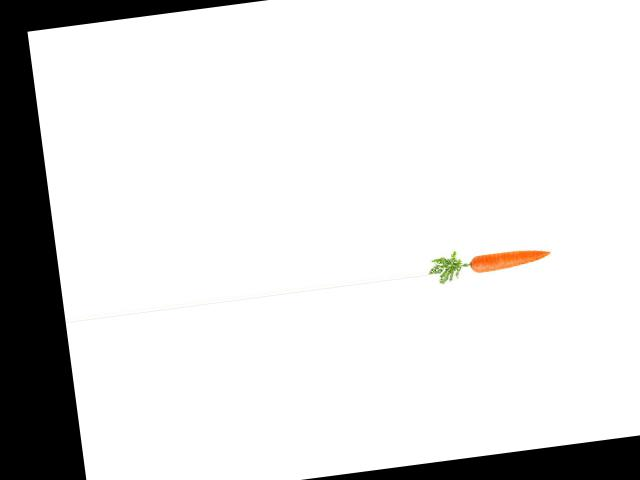carrot: (466, 242, 555, 276)
